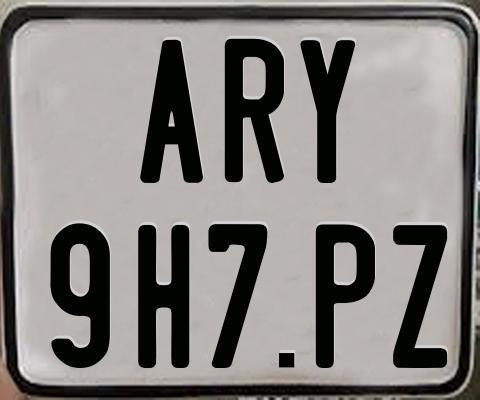7: (207, 223, 267, 367)
9: (48, 223, 111, 369)
A: (138, 38, 205, 187)
H: (136, 224, 188, 371)
P: (313, 223, 378, 372)
R: (223, 37, 286, 183)
Y: (299, 37, 358, 185)
Z: (391, 223, 445, 370)
